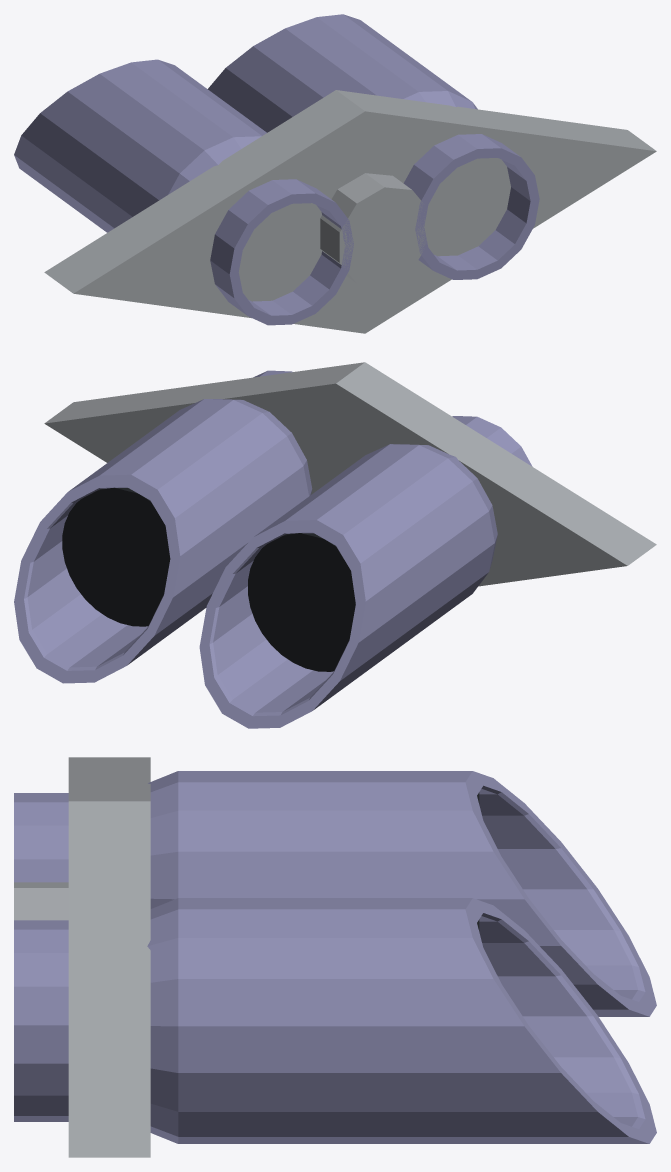
File: catback_race.glb
3 renders of one model, top to bottom at view 1: azimuth 30°, elevation 25°; view 2: azimuth 150°, elevation 25°; view 3: azimuth 270°, elevation 25°, orthographic. The views are drawn at different scales.
Visible parts, largest first — view 1: model; view 2: model; view 3: model.
Boxes of the visible parts, box(x1,y1,x2,y2) form: model: box(14, 14, 656, 333); model: box(14, 362, 656, 728); model: box(14, 757, 656, 1157).
Bounding box in the file's own units: 0.346 × 0.126 × 0.235.
Materials: 3 (1 with a texture image).
